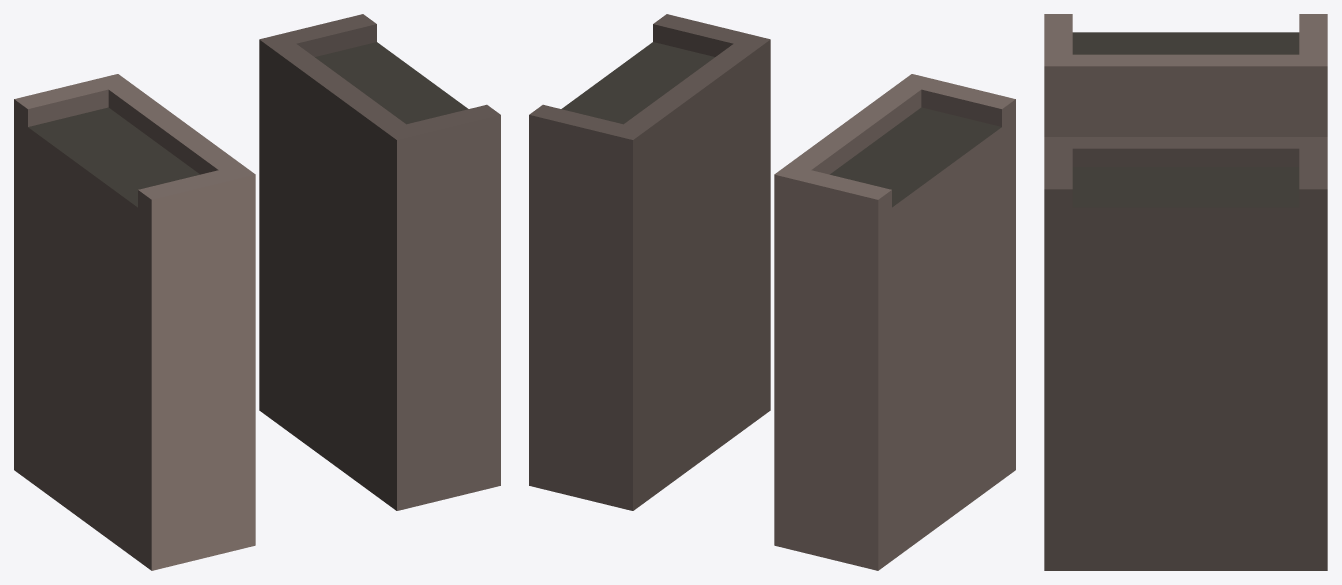
File: Building_03_Passage.fbx
3 renders of one model, left to right at view 1: azimuth 30°, elevation 25°; view 2: azimuth 150°, elevation 25°; view 3: azimuth 270°, elevation 25°, orthographic. The views are drawn at different scales.
Parts seen in each view (by area): view 1: Building_03_Passage; view 2: Building_03_Passage; view 3: Building_03_Passage.
Part boxes in pixels (x1,y1,x2,y2): Building_03_Passage: [14, 14, 500, 570]; Building_03_Passage: [529, 14, 1015, 570]; Building_03_Passage: [1044, 14, 1327, 570].
Size of the model in its own units: 110 by 111 by 74.81.
